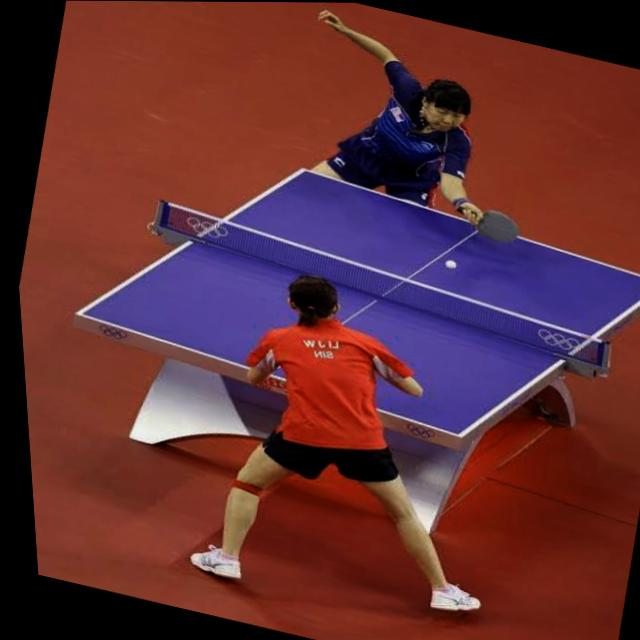TT Net: (145, 196, 621, 374)
TT Racket: (467, 206, 530, 248)
TT Table: (78, 166, 640, 433)
